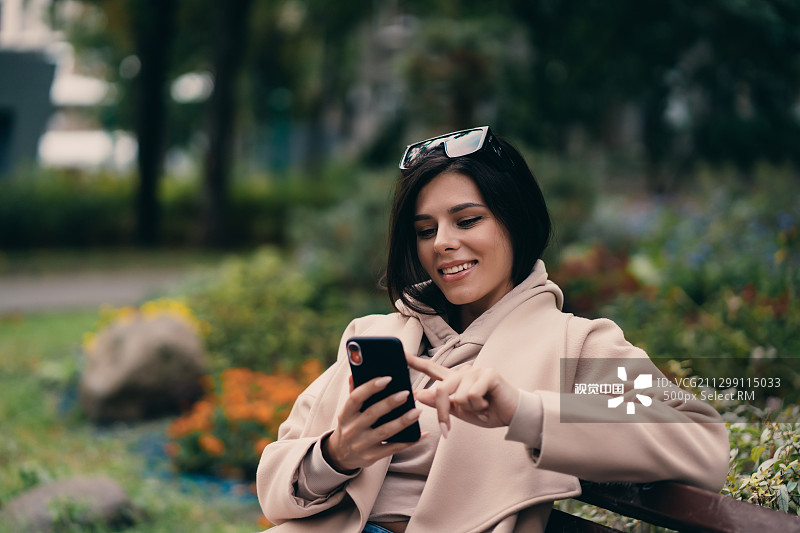reading: (313, 333, 527, 491)
